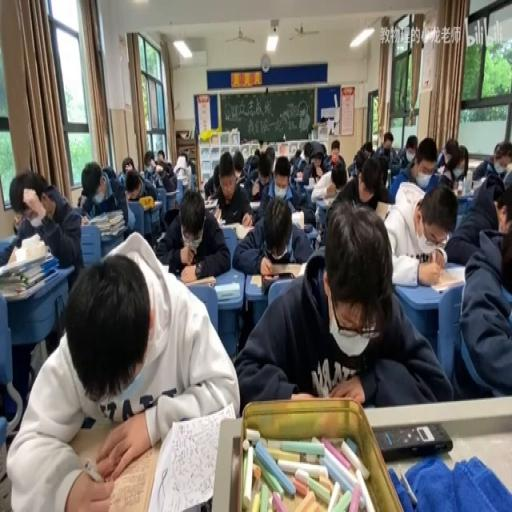calculator: (102, 439, 158, 512), (426, 263, 465, 292), (264, 262, 306, 280), (182, 273, 214, 289), (214, 282, 240, 300), (225, 222, 252, 237), (163, 189, 178, 213), (375, 198, 391, 219), (290, 209, 304, 229), (470, 175, 484, 192), (204, 194, 218, 208), (319, 195, 335, 206), (250, 273, 262, 286), (176, 174, 189, 186), (213, 205, 222, 222), (156, 263, 170, 273), (155, 232, 165, 243), (80, 215, 90, 226), (249, 201, 261, 209), (150, 198, 162, 206), (294, 170, 302, 180), (308, 175, 314, 188)
paper: (8, 230, 234, 510), (236, 199, 446, 407), (2, 168, 85, 294), (158, 186, 230, 279), (443, 169, 509, 270), (333, 152, 390, 211), (283, 151, 326, 226), (78, 160, 124, 230), (389, 136, 437, 202), (248, 151, 276, 212), (124, 168, 156, 206), (150, 149, 177, 192), (376, 131, 398, 169), (322, 138, 345, 173), (438, 138, 459, 173), (202, 164, 221, 200), (493, 142, 512, 176), (454, 144, 468, 182), (485, 169, 505, 195), (232, 148, 245, 181), (274, 162, 290, 186), (242, 155, 256, 178), (436, 171, 452, 189), (101, 165, 117, 181), (404, 134, 416, 155), (185, 158, 196, 178), (264, 145, 274, 166), (347, 159, 358, 178), (122, 155, 134, 172), (362, 141, 372, 158), (302, 141, 312, 158), (292, 148, 302, 165), (144, 155, 154, 171), (258, 138, 267, 154), (156, 149, 165, 162), (77, 194, 84, 208), (320, 142, 326, 156), (253, 149, 259, 158)
person: (374, 420, 452, 460)
